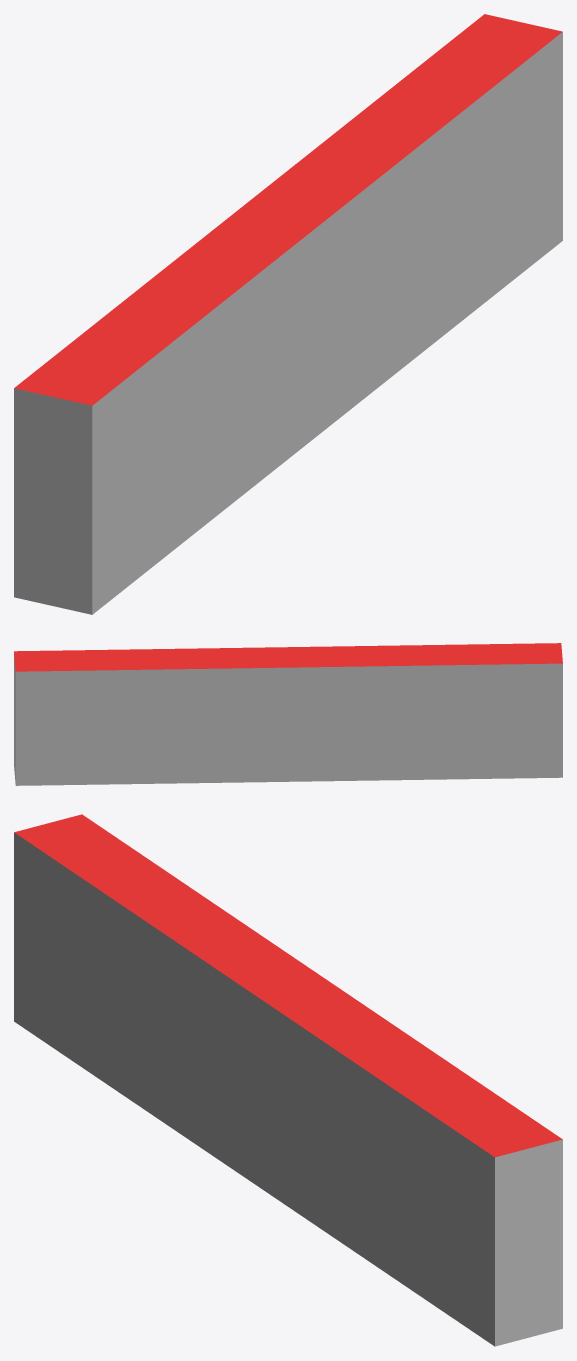
3 renders of one model, top to bottom at view 1: azimuth 30°, elevation 25°; view 2: azimuth 150°, elevation 25°; view 3: azimuth 270°, elevation 25°, orthographic. The views are drawn at different scales.
Size of the model in its own units: 50.56 by 34.19 by 13.
